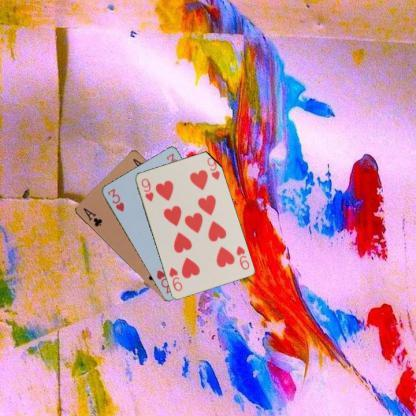3h: (104, 186, 126, 213)
9h: (234, 242, 250, 272), (138, 176, 155, 202)
Ac: (80, 205, 104, 228)
